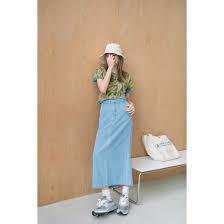Tshirt: (91, 64, 135, 100)
skirt: (91, 98, 135, 190)
